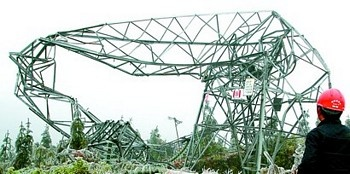red: (314, 87, 346, 121)
